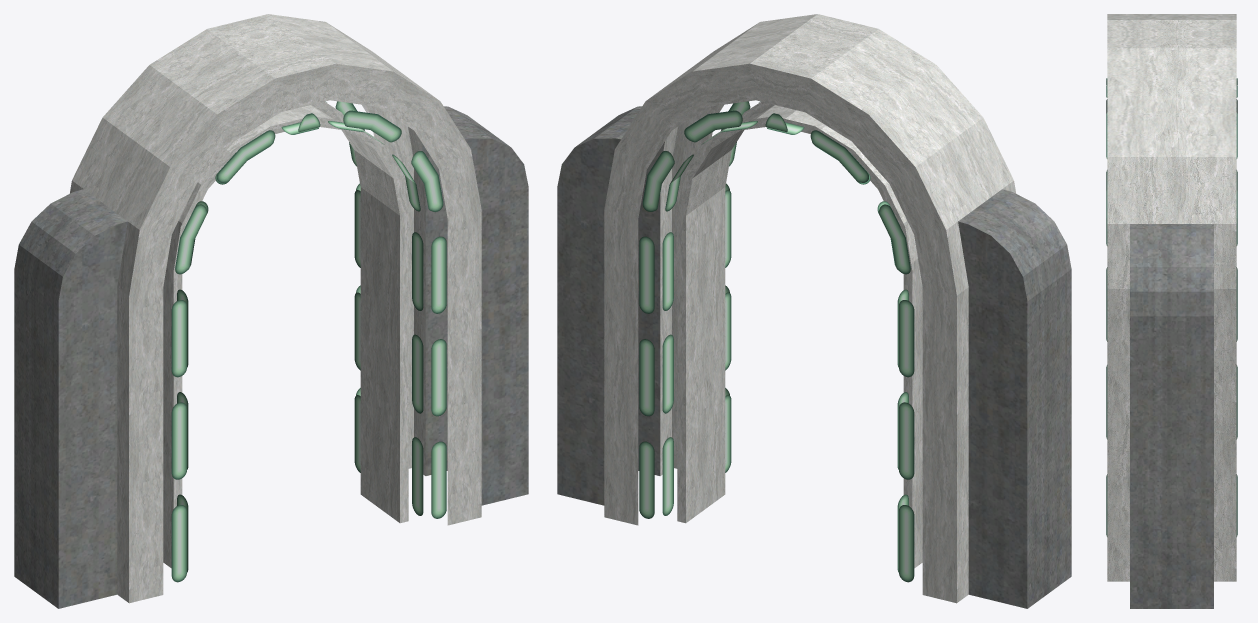
File: thm_corl_imprv_arch_sm_s01_l0.fbx
The picture shows the model from 3 angles, left to right: view 1: azimuth 30°, elevation 25°; view 2: azimuth 150°, elevation 25°; view 3: azimuth 270°, elevation 25°; orthographic projection. The views are drawn at different scales.
Visible parts, largest first — view 1: mesh_node; view 2: mesh_node; view 3: mesh_node.
Boxes of the visible parts, x1,y1,x2,y2 form: mesh_node: (14, 14, 528, 608); mesh_node: (557, 14, 1071, 608); mesh_node: (1106, 14, 1237, 608).
Bounding box in the file's own units: 8 × 7.95 × 2.23.
